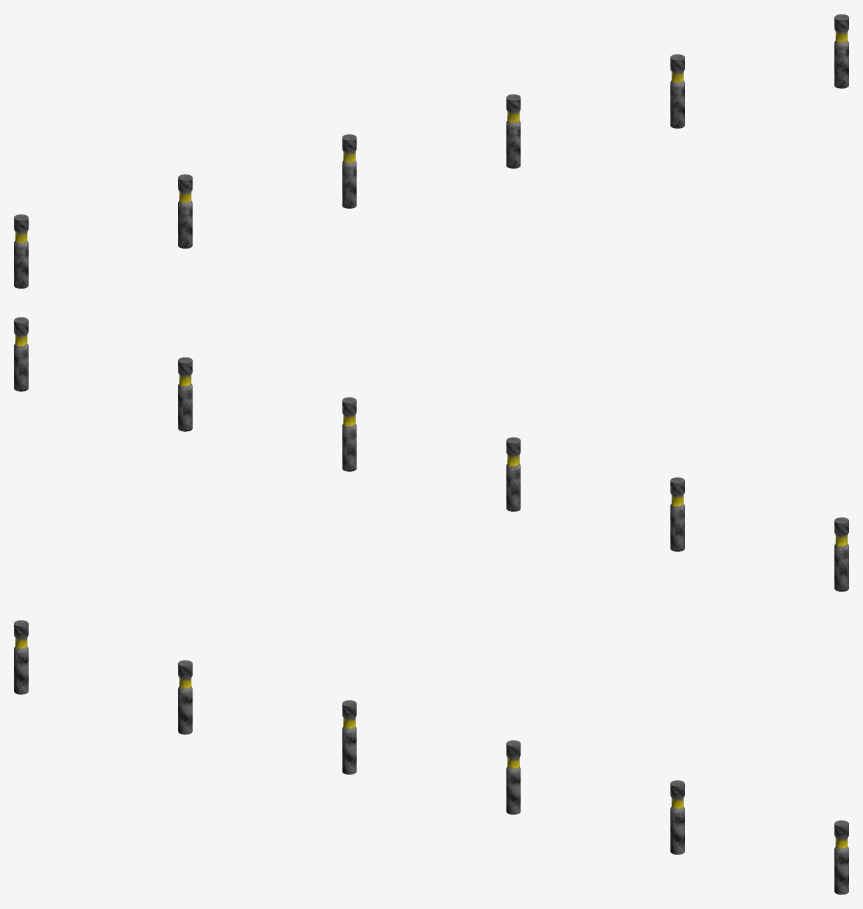
File: fense.fbx
3 views of the same model, one above another, from view 1: azimuth 30°, elevation 25°; view 2: azimuth 150°, elevation 25°; view 3: azimuth 330°, elevation 25° (orthographic).
Parts seen in each view (by area): view 1: Cylinder.034; view 2: Cylinder.034; view 3: Cylinder.034.
Part boxes in pixels (x1=…): Cylinder.034: x1=14, y1=14, x2=848, y2=288; Cylinder.034: x1=14, y1=317, x2=848, y2=591; Cylinder.034: x1=14, y1=620, x2=848, y2=894.
Size of the model in its own units: 1697 by 133 by 25.71.
